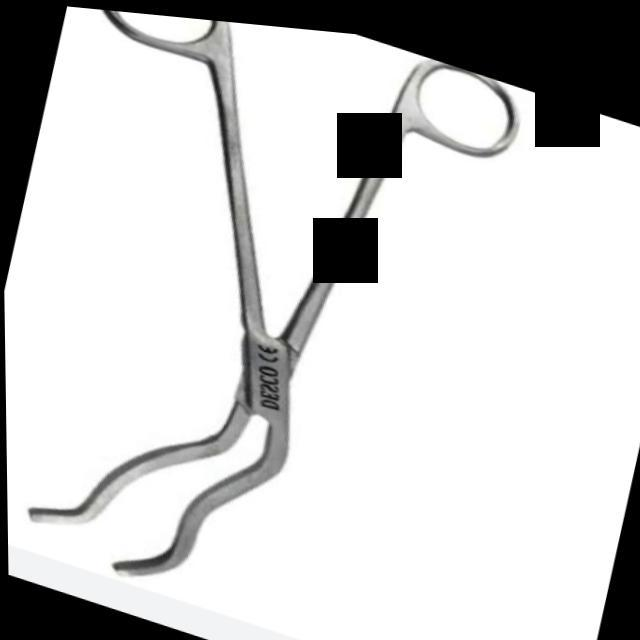Cheatle Forceps: (0, 0, 537, 640)
